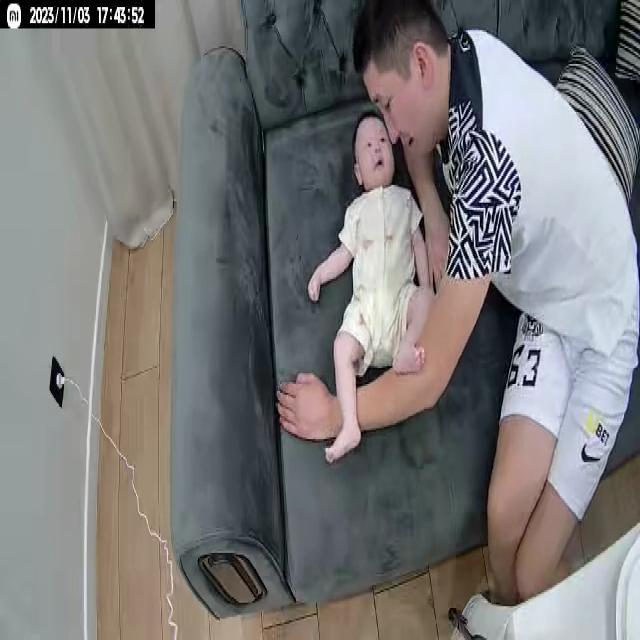baby: (307, 108, 430, 470)
